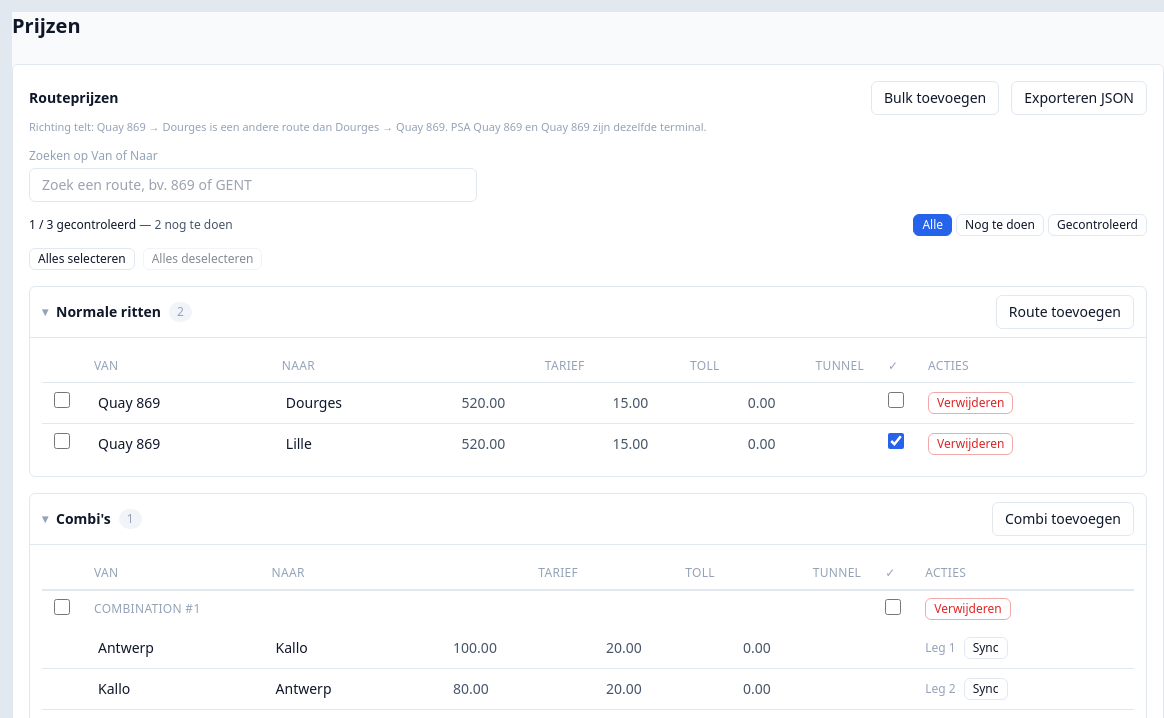
selecting › deselects everything
Expected: the button "Lille" is shown, [282,432,434,456]
Click the button "Alles selecteren". click: x=82, y=258
box: [29,248,135,270]
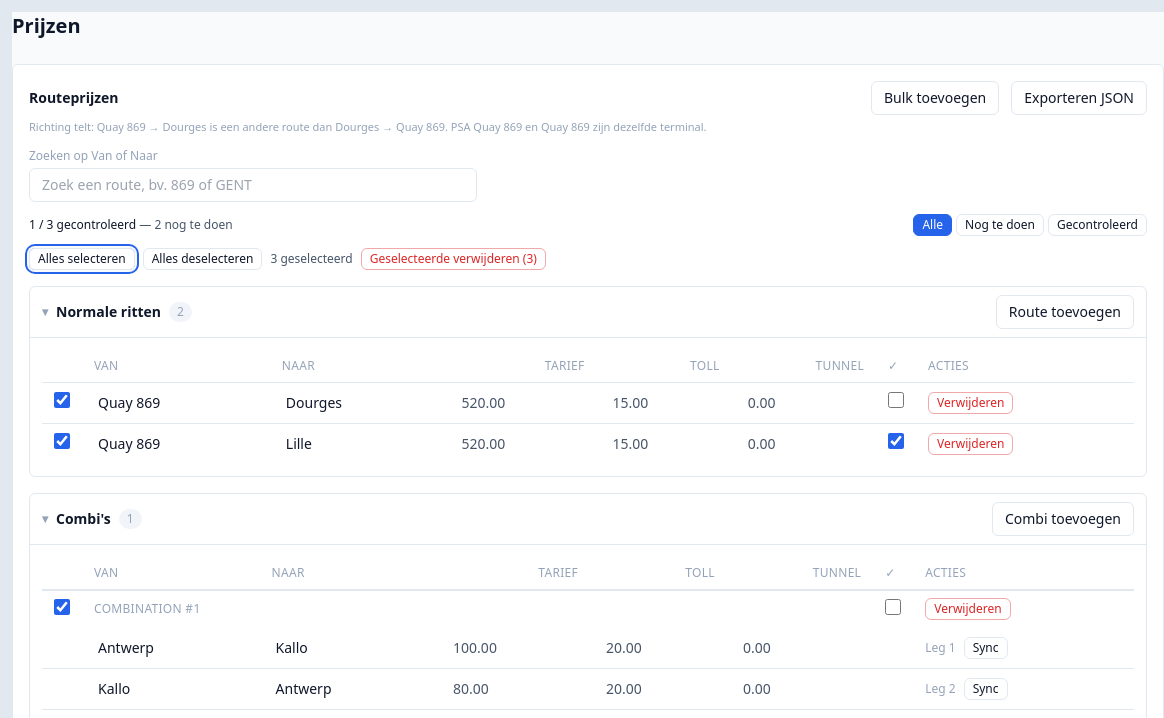
Click the button "Alles deselecteren". click: x=202, y=258
box: [143,248,262,270]
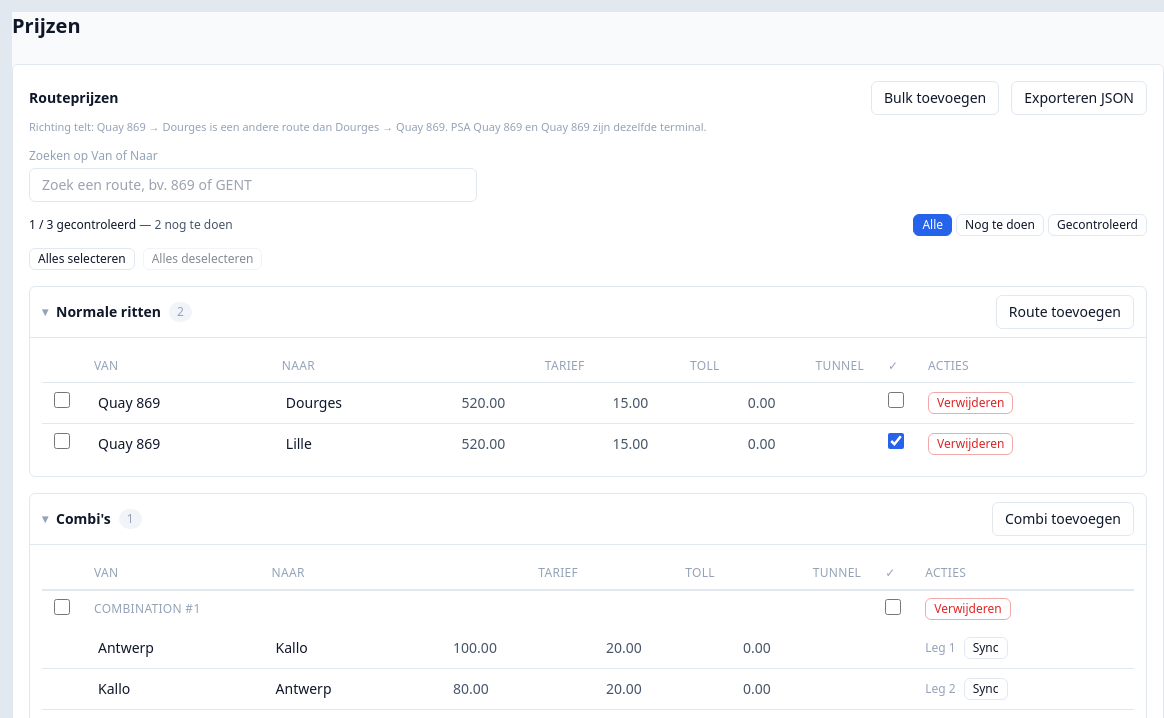
Now the button "Geselecteerde verwijderen" is gone
Now the checkbox named "Selecteren:" is not checked, box [54,392,70,408]
